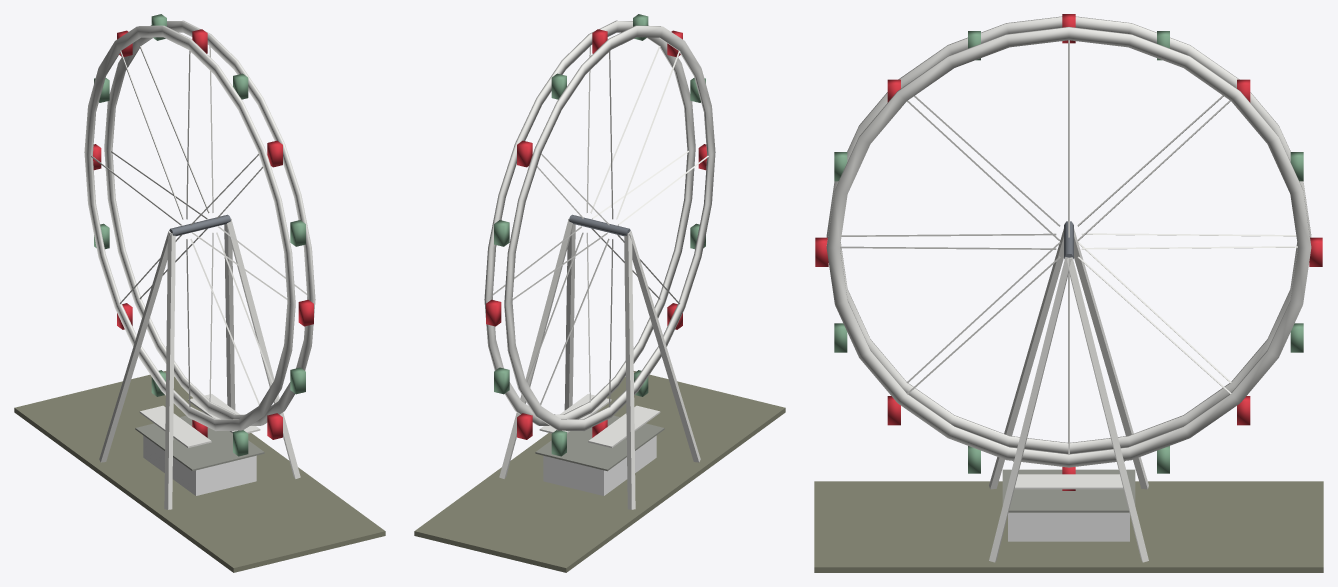
Rendered from far.fbx.
3 renders of one model, left to right at view 1: azimuth 30°, elevation 25°; view 2: azimuth 150°, elevation 25°; view 3: azimuth 270°, elevation 25°, orthographic. The views are drawn at different scales.
Parts seen in each view (by area): view 1: a1094/0/far; view 2: a1094/0/far; view 3: a1094/0/far.
Boxes of the visible parts, x1=… form: a1094/0/far: x1=14, y1=14, x2=385, y2=572; a1094/0/far: x1=414, y1=14, x2=785, y2=572; a1094/0/far: x1=814, y1=14, x2=1323, y2=572.
Size of the model in its own units: 40 by 111 by 100.
